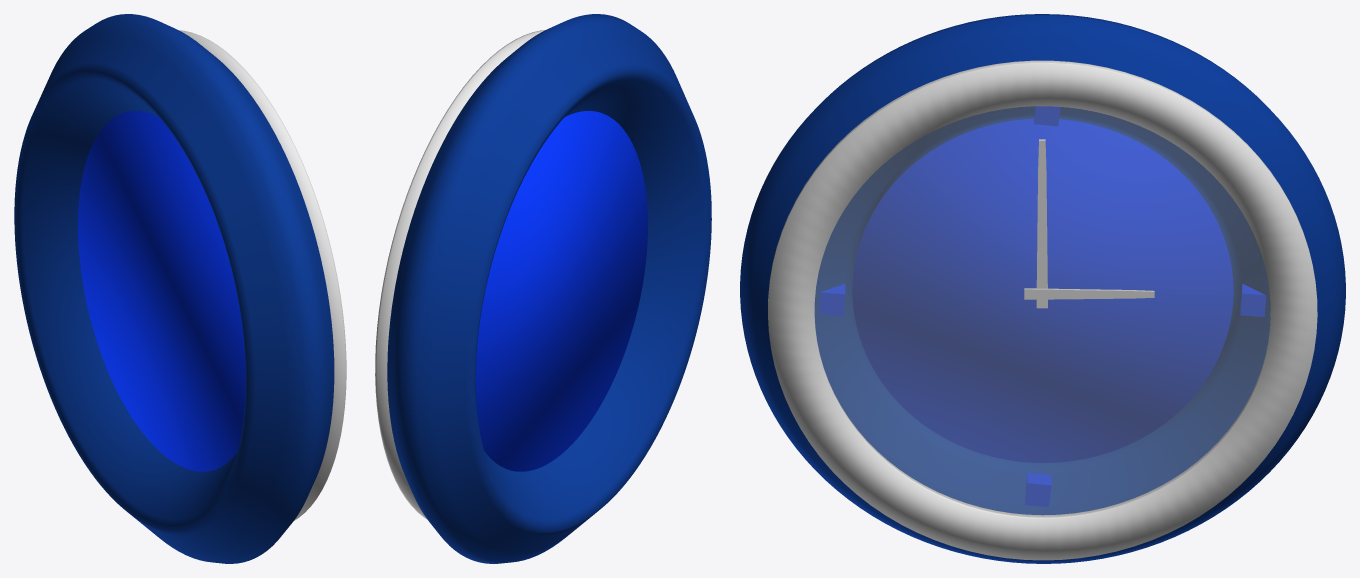
File: clock.glb
The picture shows the model from 3 angles, left to right: view 1: azimuth 30°, elevation 25°; view 2: azimuth 150°, elevation 25°; view 3: azimuth 270°, elevation 25°; orthographic projection. The views are drawn at different scales.
Parts seen in each view (by area): view 1: Torus_2; view 2: Torus_2; view 3: Torus_2, object 2, object 3.
Part boxes in pixels (bbox=[...]): Torus_2: bbox=[14, 14, 346, 563]; Torus_2: bbox=[375, 14, 711, 563]; Torus_2: bbox=[740, 14, 1345, 563]; object 2: bbox=[1036, 139, 1047, 308]; object 3: bbox=[1024, 288, 1154, 299].
Size of the model in its own units: 0.0773 by 0.4032 by 0.403.
